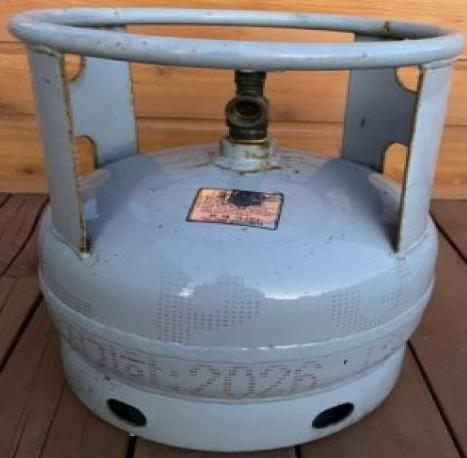cylinder: (1, 1, 467, 458)
